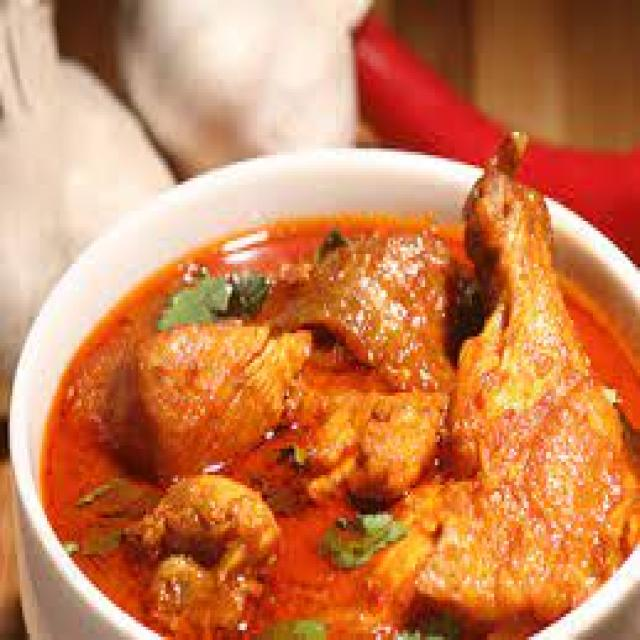Frango: (50, 138, 630, 636)
